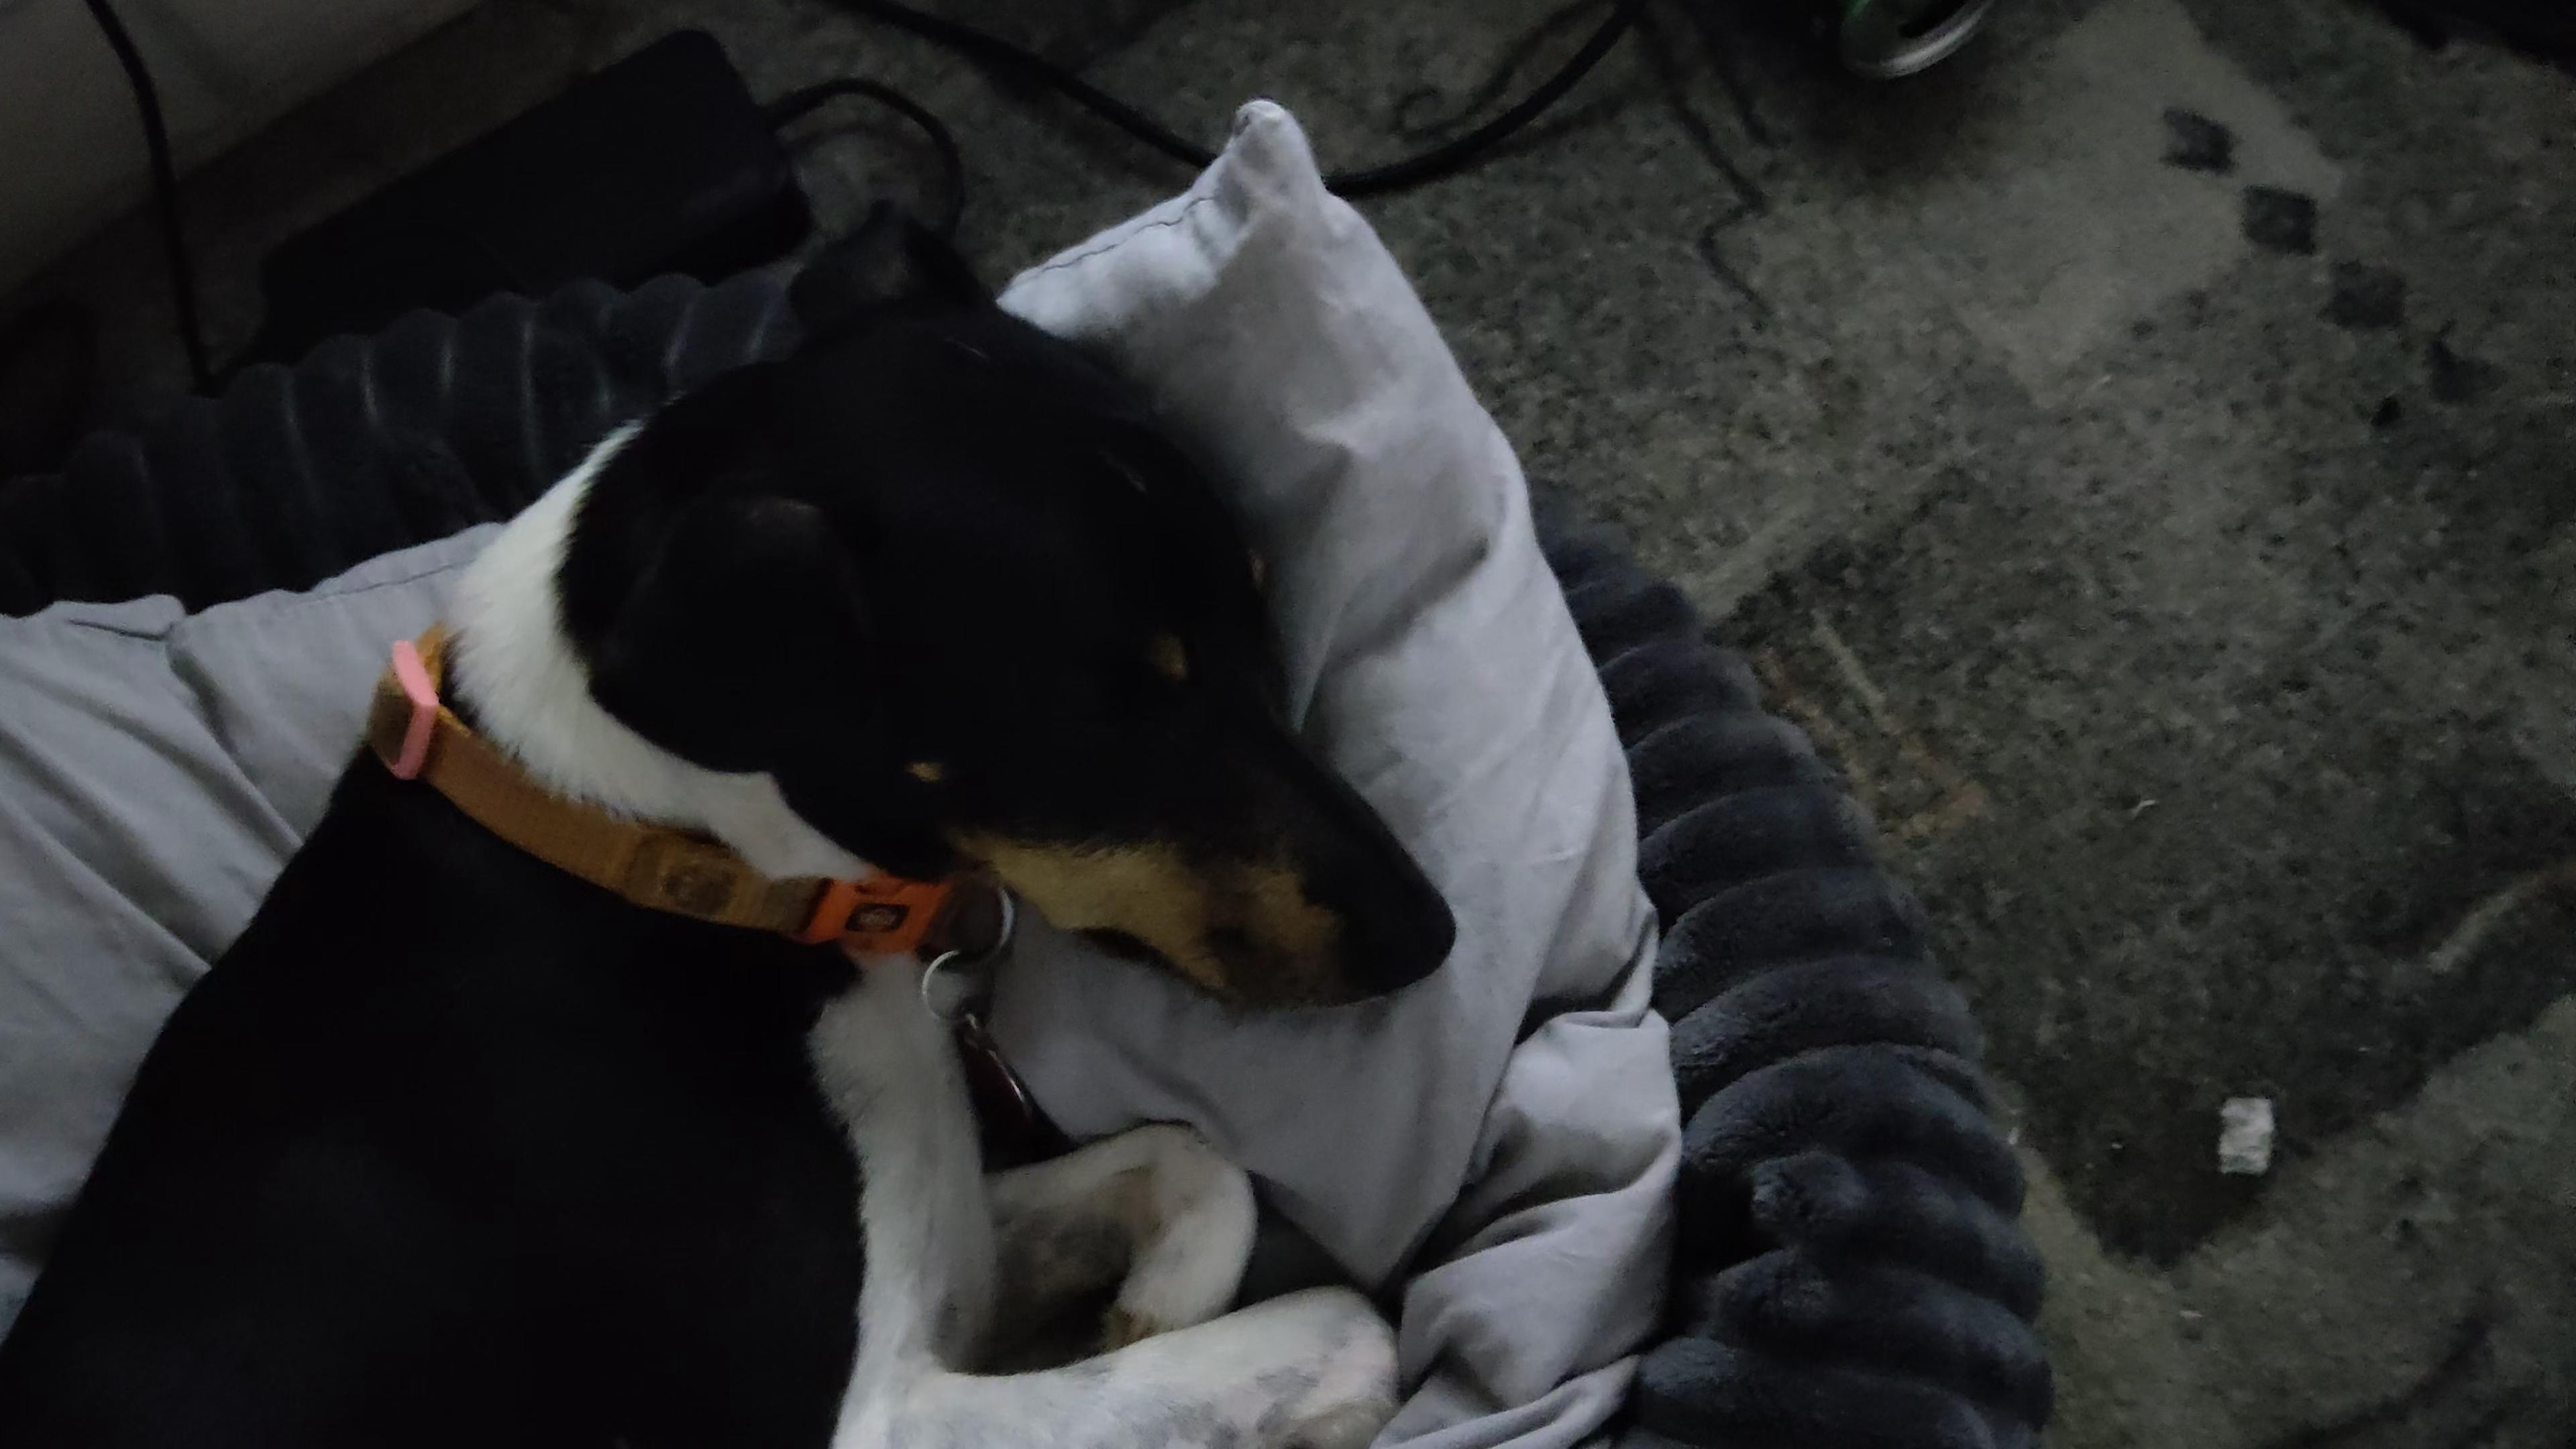Dog: (0, 170, 1495, 1449)
